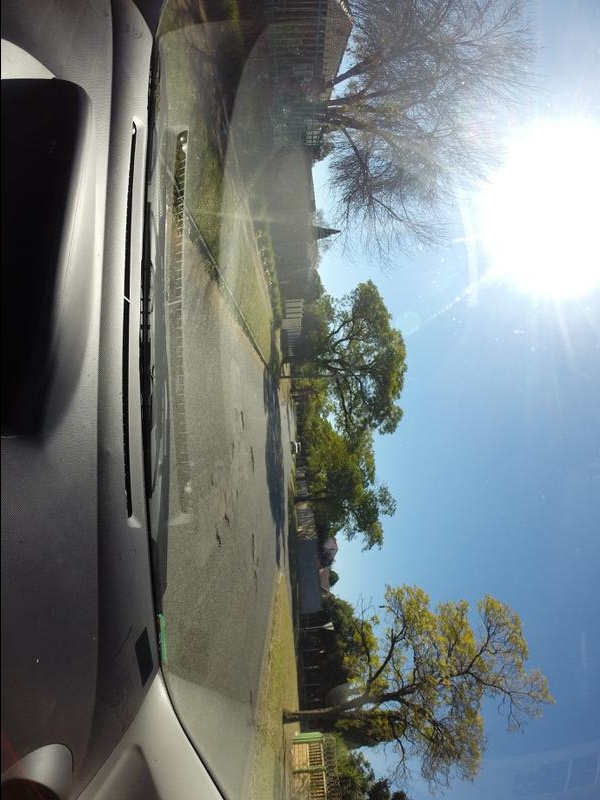pothole: (245, 532, 261, 565), (221, 508, 238, 534), (247, 443, 258, 475), (236, 407, 250, 432), (211, 526, 224, 551), (250, 569, 261, 597)
